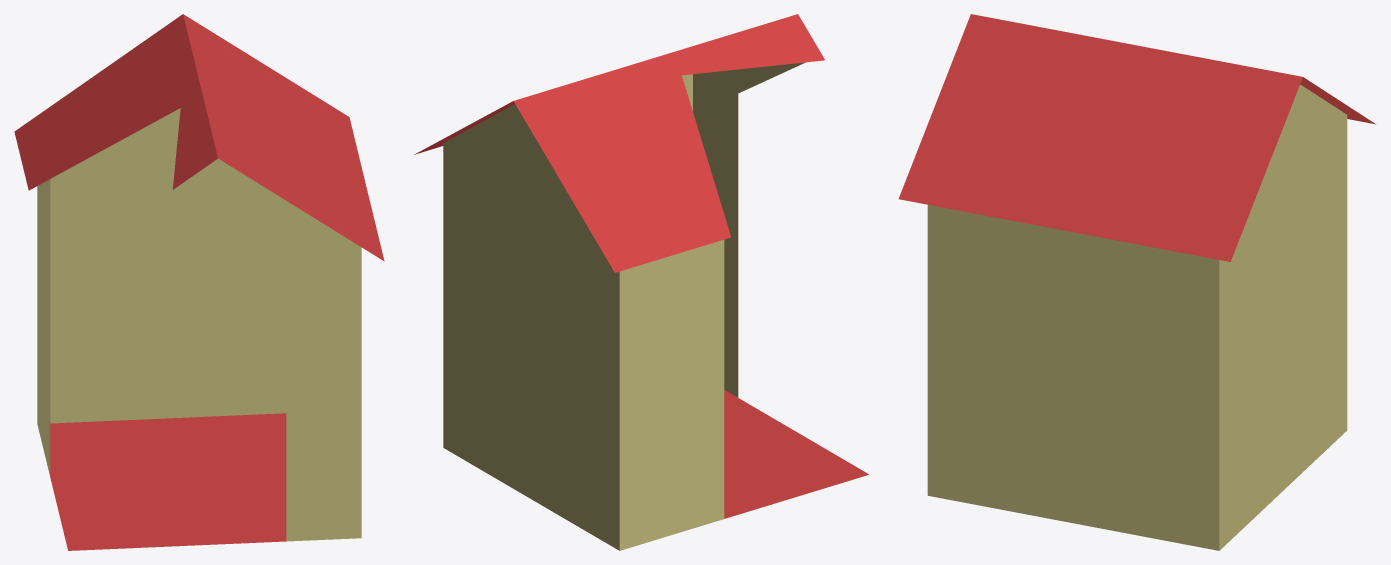
3 views of the same model, side by side, from view 1: azimuth 30°, elevation 25°; view 2: azimuth 150°, elevation 25°; view 3: azimuth 270°, elevation 25° (orthographic). The views are drawn at different scales.
Size of the model in its own units: 15.05 by 16.17 by 15.6.
